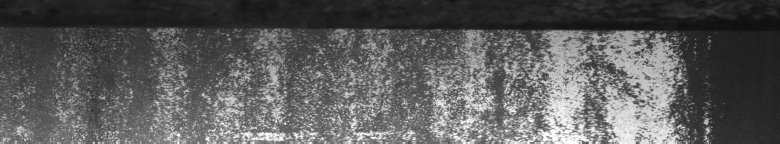kb: (4, 24, 698, 136)
